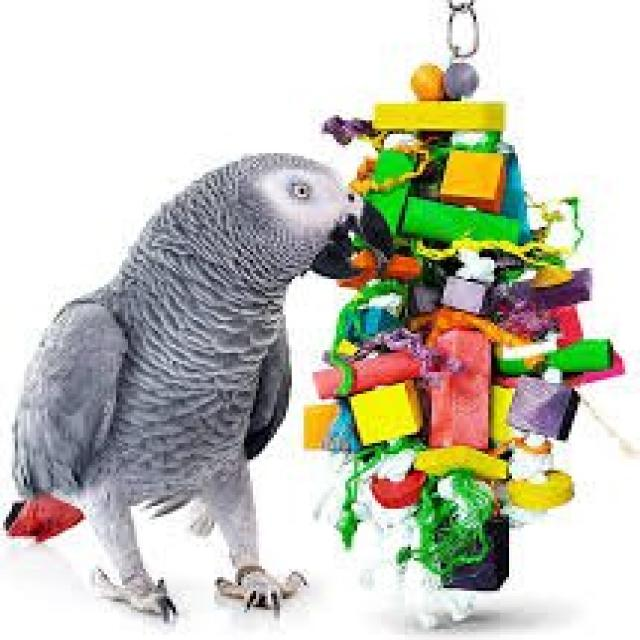Parrot: (16, 140, 399, 622)
